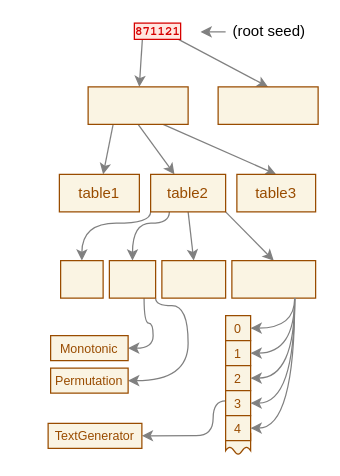
Image size: 340x476. Some labels were removed from this diagram. Each missing label, with the box of its shape:
cid: (108, 259, 156, 298)
description: (231, 259, 316, 298)
id: (59, 259, 103, 298)
label: (161, 259, 226, 298)
schema1: (87, 86, 188, 124)
schema2: (217, 86, 318, 124)
